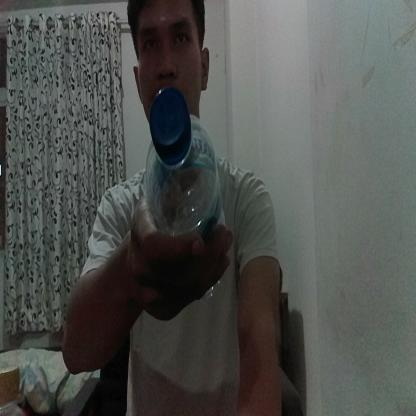plastic_bottles: (144, 89, 230, 303)
